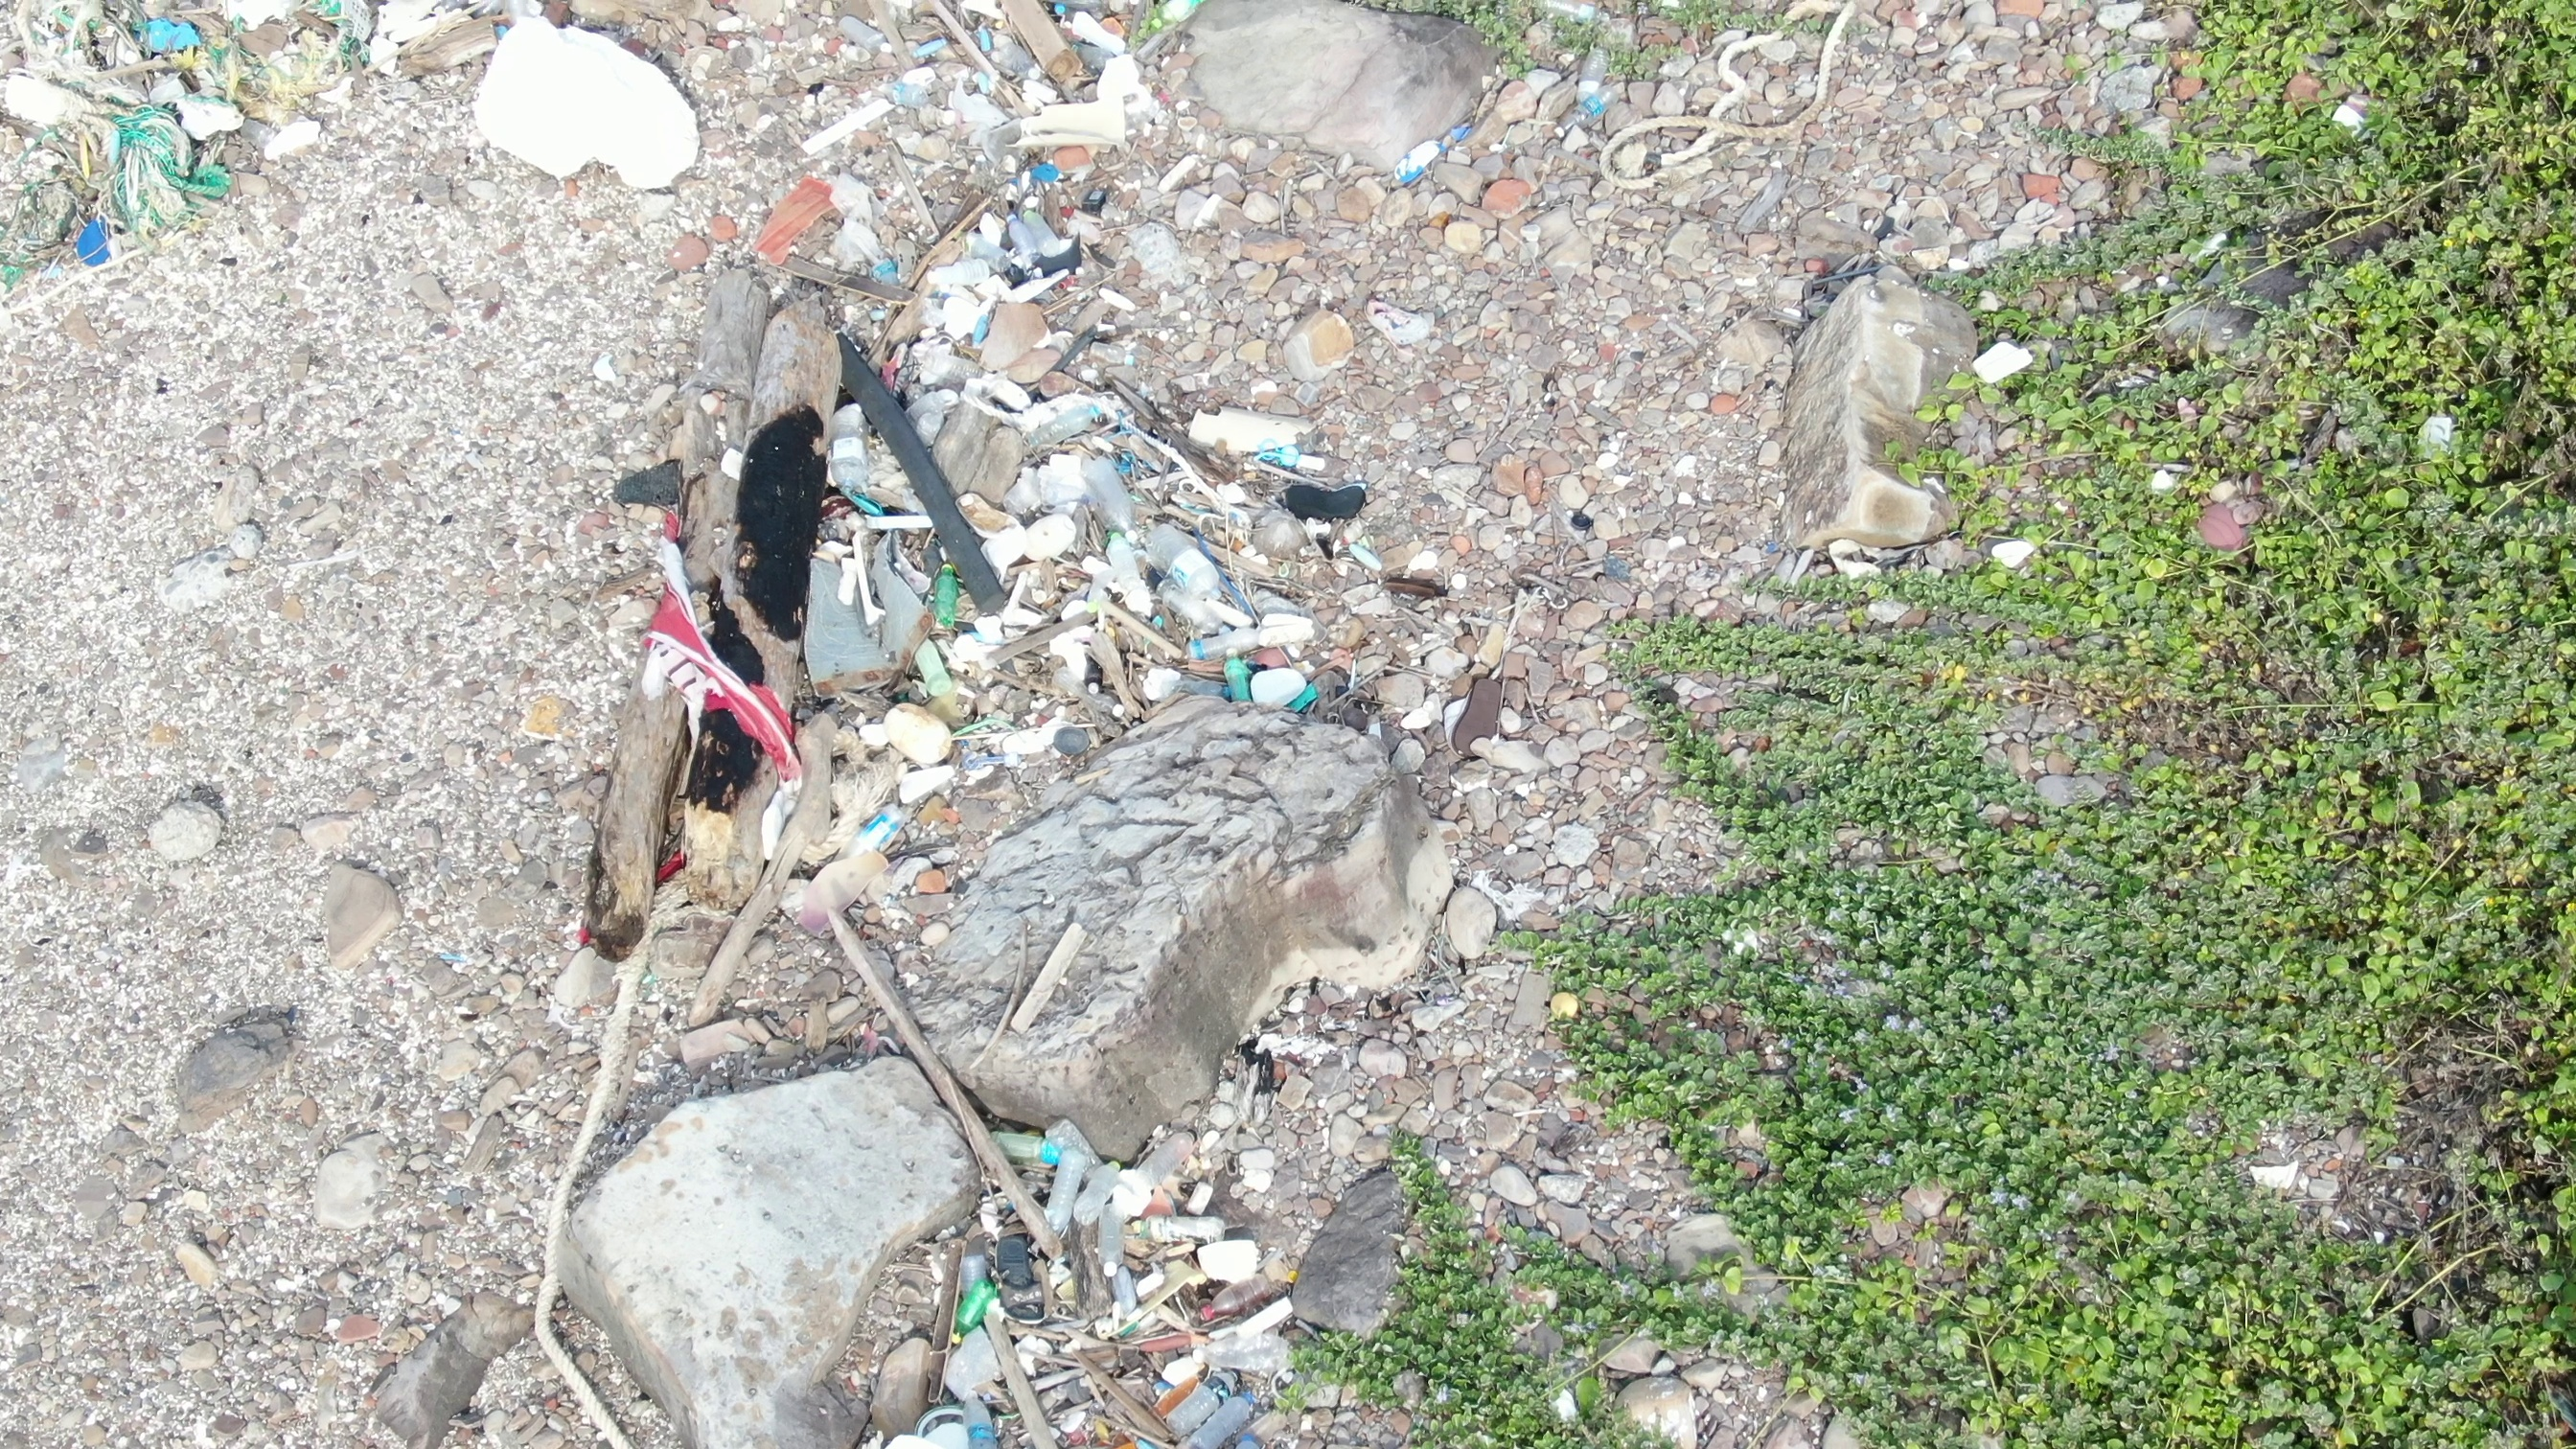bottle: (1100, 1111, 1207, 1240), (1143, 511, 1235, 616), (1180, 1256, 1293, 1334), (819, 377, 870, 510), (1030, 395, 1127, 462), (1171, 1373, 1260, 1445), (1077, 455, 1139, 550), (938, 1269, 1010, 1341), (1046, 1138, 1088, 1254), (964, 1116, 1051, 1173), (929, 561, 973, 653), (959, 1378, 1005, 1449), (1215, 651, 1260, 715), (1090, 1189, 1122, 1277)
garbage: (596, 2, 1375, 931), (913, 1095, 1263, 1449), (2, 2, 400, 308), (1380, 7, 1905, 205), (465, 14, 717, 205)
